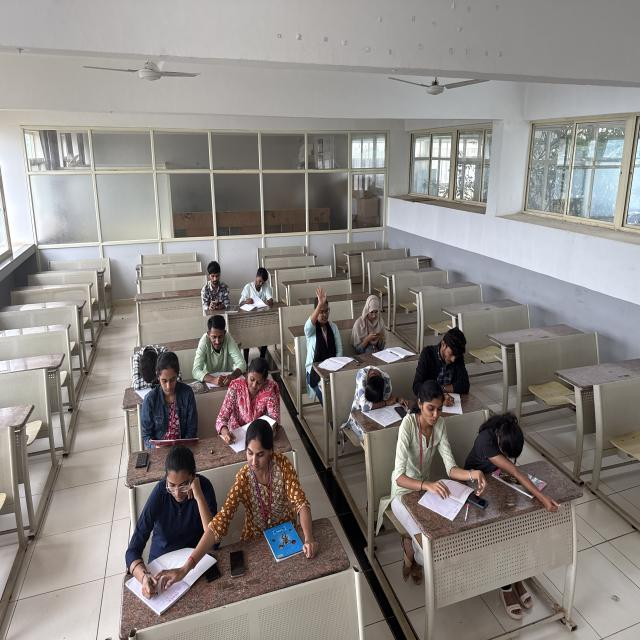Hand Rising: (303, 284, 348, 365)
Reading: (398, 376, 461, 508), (138, 356, 202, 454), (195, 314, 248, 386), (238, 266, 275, 308)
Sleeping: (459, 410, 535, 490), (348, 364, 408, 419), (125, 334, 176, 390)
Using Phone: (195, 257, 235, 318), (350, 296, 389, 353)
Writing: (118, 453, 214, 613), (215, 359, 284, 451), (417, 328, 475, 412)
